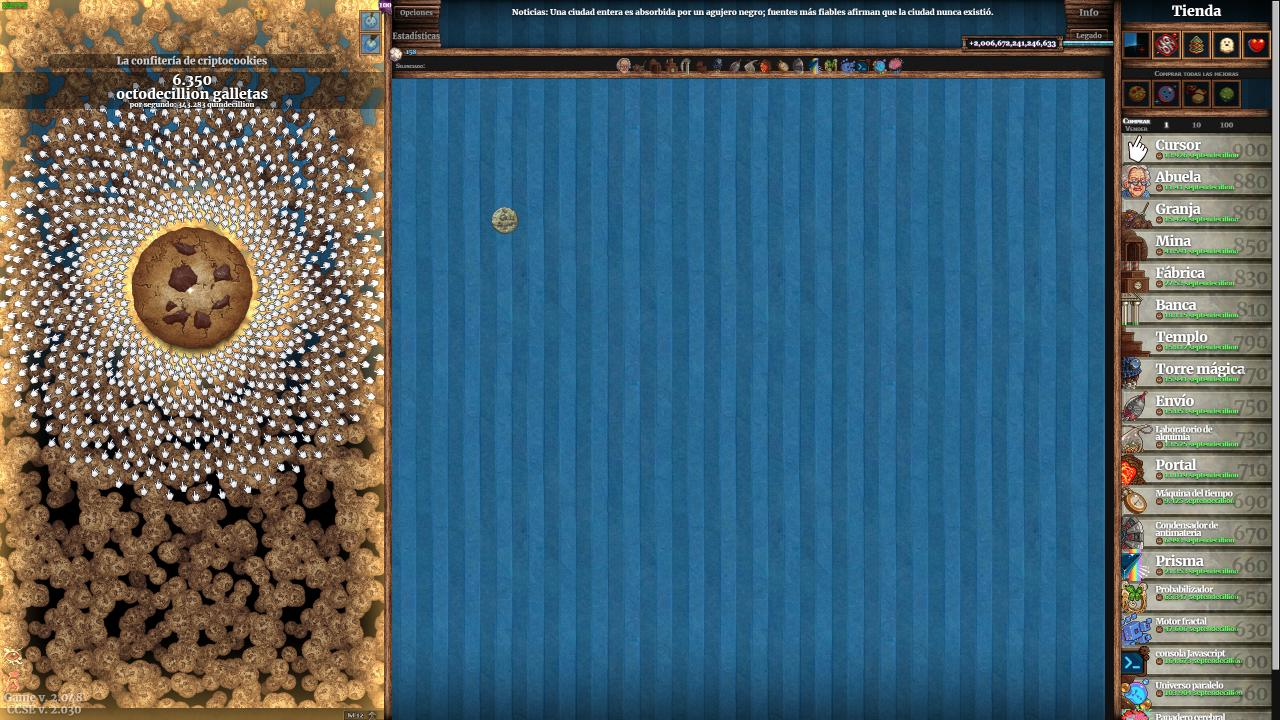GoldenCookie: (491, 205, 520, 236)
